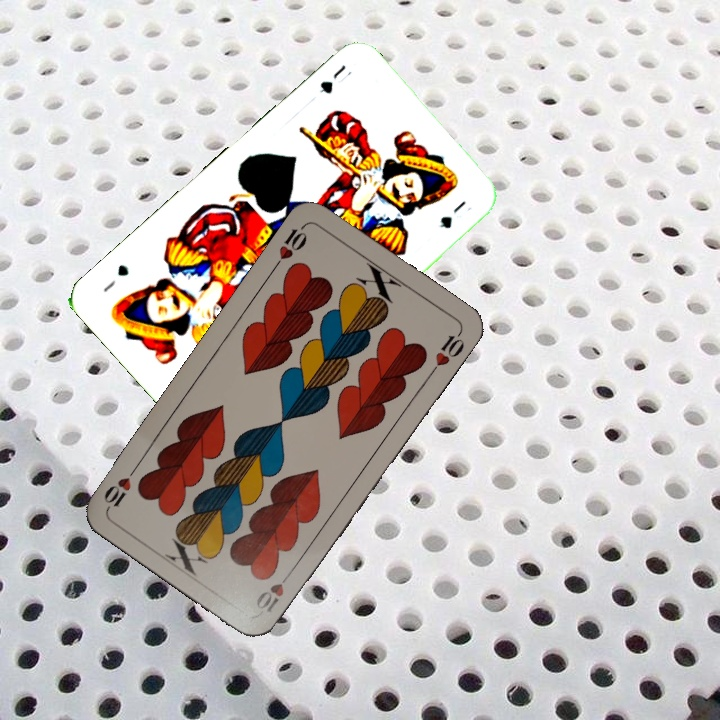GU: (315, 60, 355, 97)
H10: (251, 566, 296, 615), (269, 220, 310, 272)
